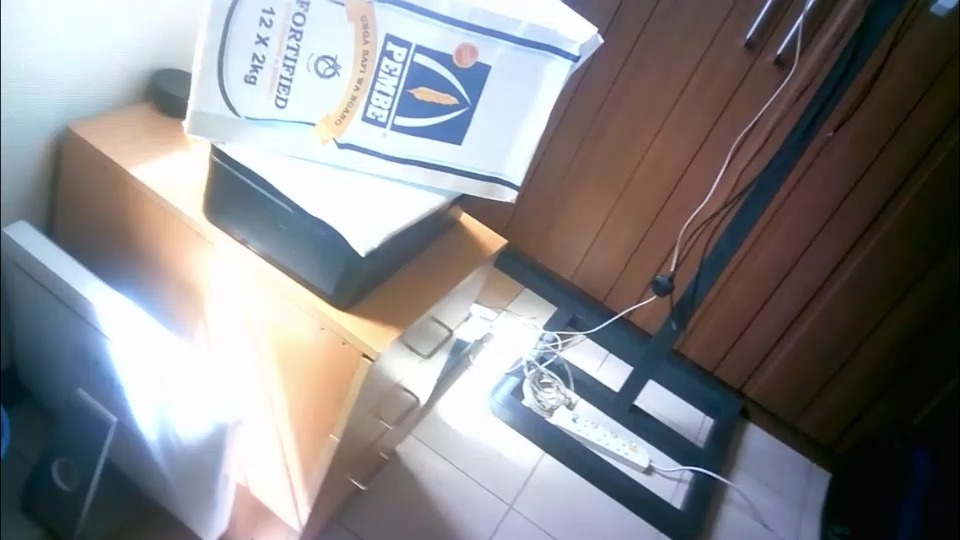wheat_flour_blue_label: (182, 2, 599, 203)
